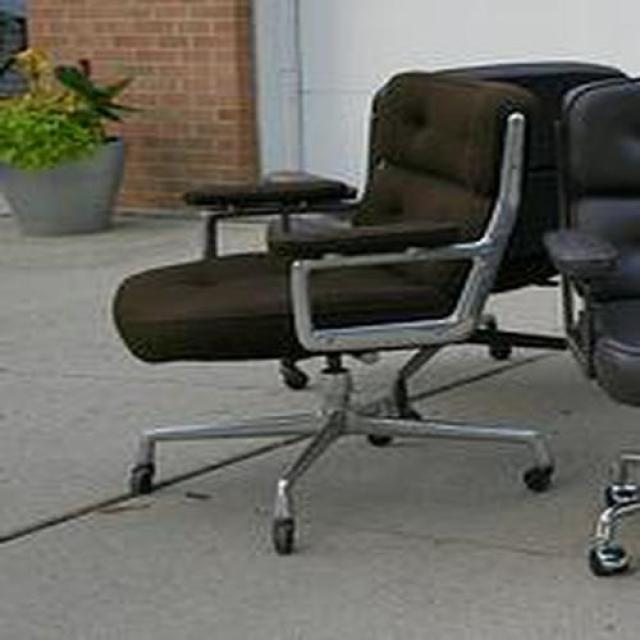swivelchair: (111, 61, 640, 557)
